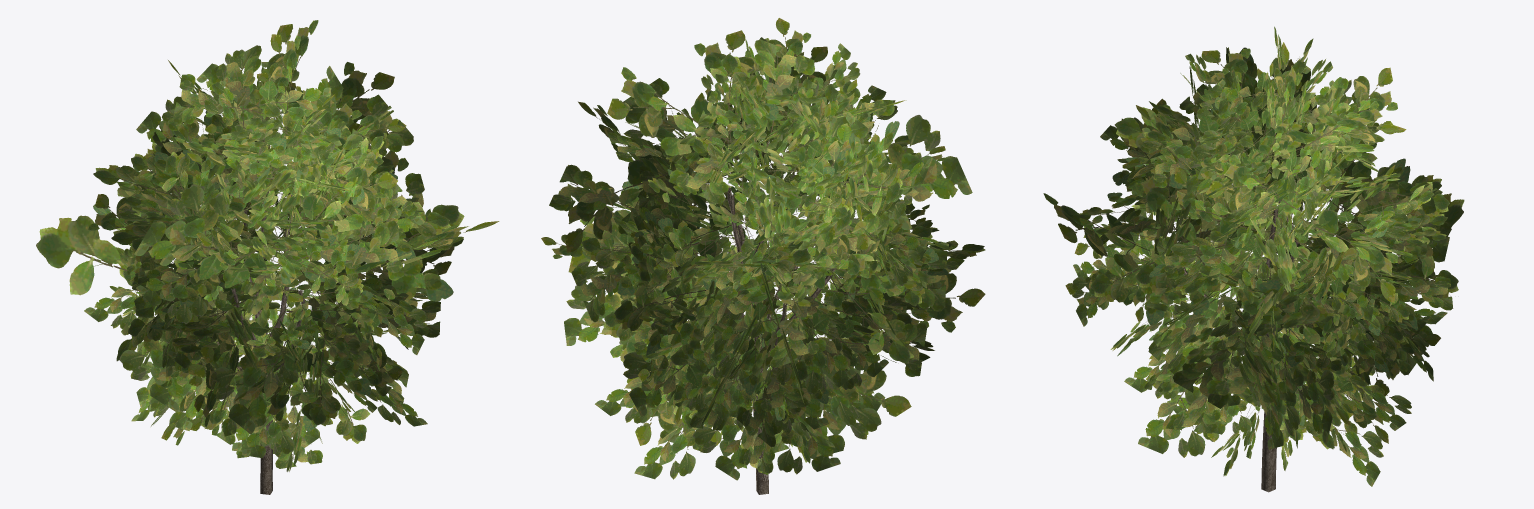
Rendered from tree_maple_v1_l1.glb.
3 renders of one model, left to right at view 1: azimuth 30°, elevation 25°; view 2: azimuth 150°, elevation 25°; view 3: azimuth 270°, elevation 25°, orthographic. The views are drawn at different scales.
Visible parts, largest first — view 1: tree_maple_v1_l1; view 2: tree_maple_v1_l1; view 3: tree_maple_v1_l1.
Boxes of the visible parts, x1,y1,x2,y2 form: tree_maple_v1_l1: (36, 20, 499, 494); tree_maple_v1_l1: (541, 18, 985, 494); tree_maple_v1_l1: (1043, 26, 1464, 492).
Bounding box in the file's own units: 10.3 × 11.91 × 11.76.
Materials: 2 (2 with a texture image).
